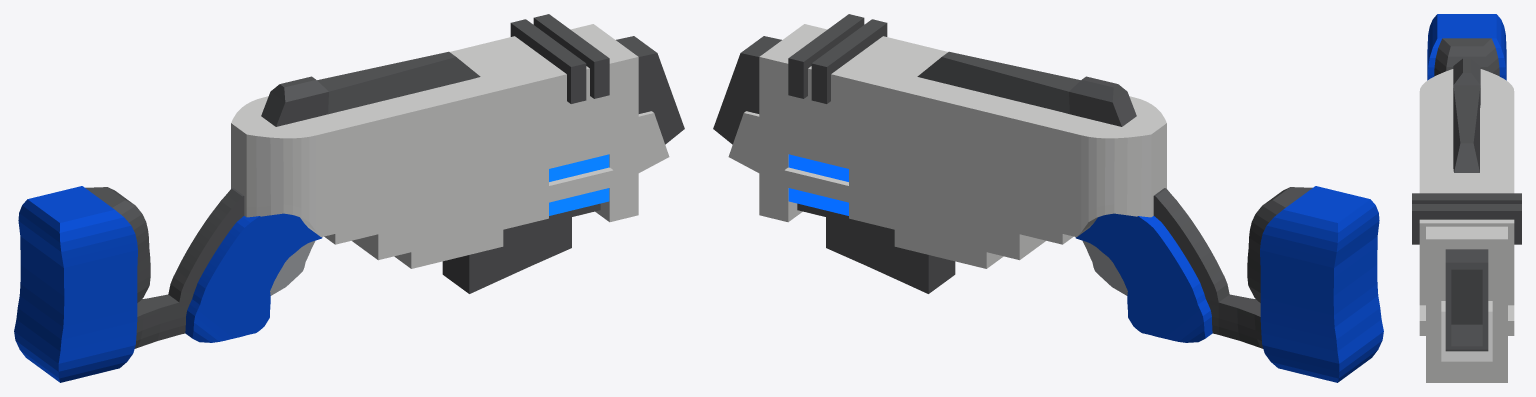
File: laserV2.glb
3 views of the same model, side by side, from view 1: azimuth 30°, elevation 25°; view 2: azimuth 150°, elevation 25°; view 3: azimuth 270°, elevation 25° (orthographic). The views are drawn at different scales.
Parts seen in each view (by area): view 1: BodyMain, ArmHandleBlue, HandleBlue, Scope, BodySecondary, HandleGrey, Magazine, DetailGrey, BodyFourth, ArmHandleGrey, DetailBlue, BodyThird (+1 smaller); view 2: BodyMain, ArmHandleBlue, HandleBlue, Scope, BodySecondary, HandleGrey, Magazine, DetailGrey, BodyFourth, ArmHandleGrey, DetailBlue, BodyThird (+1 smaller); view 3: BodyMain, BodySecondary, BodyFourth, DetailGrey, Scope, ArmHandleBlue, ArmHandleGrey, BodyThird.
Part boxes in pixels (x1,y1,x2,y2): BodyMain: (231, 36, 613, 268); ArmHandleBlue: (14, 186, 137, 382); HandleBlue: (185, 213, 322, 342); Scope: (261, 51, 480, 126); BodySecondary: (570, 24, 638, 222); HandleGrey: (134, 188, 244, 348); Magazine: (442, 203, 600, 293); DetailGrey: (510, 14, 609, 103); BodyFourth: (616, 36, 684, 144); ArmHandleGrey: (85, 187, 150, 302); DetailBlue: (549, 154, 609, 215); BodyThird: (638, 111, 669, 172); BodyMain: (784, 36, 1166, 268); ArmHandleBlue: (1260, 186, 1383, 382); HandleBlue: (1075, 213, 1212, 342); Scope: (917, 51, 1136, 126); BodySecondary: (759, 24, 827, 222); HandleGrey: (1153, 188, 1263, 348); Magazine: (797, 203, 955, 293); DetailGrey: (788, 14, 887, 103); BodyFourth: (713, 36, 781, 144); ArmHandleGrey: (1247, 187, 1312, 302); DetailBlue: (788, 154, 848, 215); BodyThird: (728, 111, 759, 172); BodyMain: (1419, 69, 1514, 335); BodySecondary: (1426, 226, 1507, 382); BodyFourth: (1445, 249, 1488, 351); DetailGrey: (1412, 193, 1521, 244); Scope: (1453, 58, 1480, 172); ArmHandleBlue: (1427, 14, 1506, 80); ArmHandleGrey: (1434, 38, 1499, 76); BodyThird: (1441, 301, 1492, 361).
Size of the model in its own units: 4.48 by 1.62 by 0.7365.
